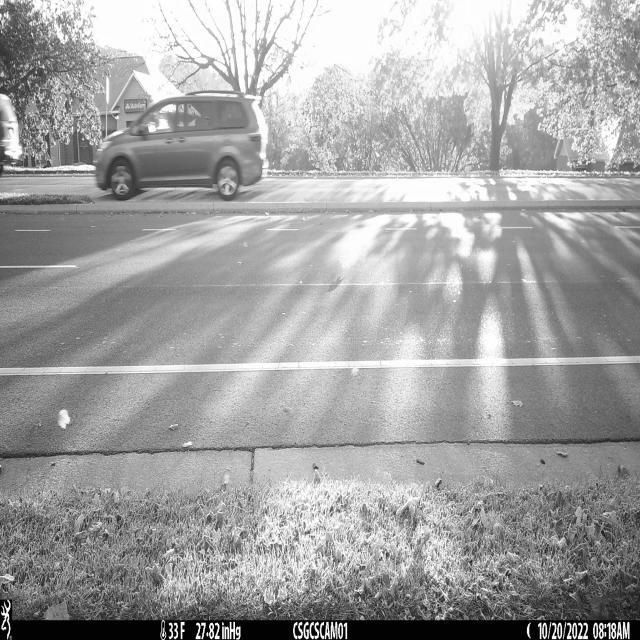Van: (94, 91, 269, 202)
